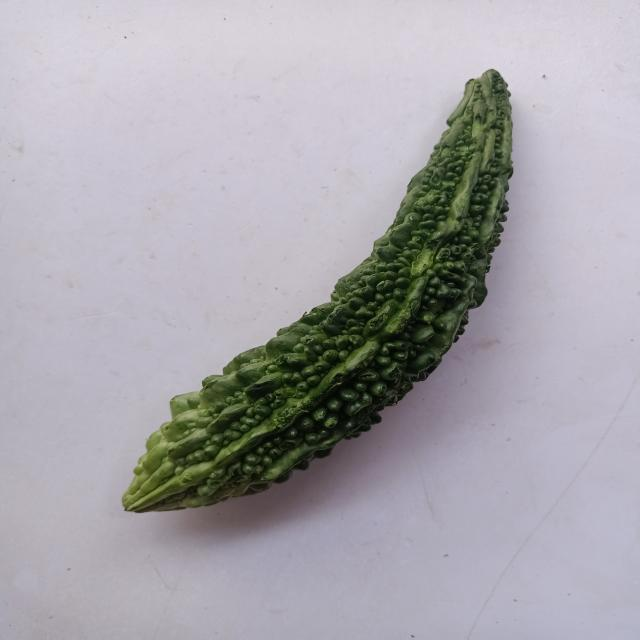Bitter Gourd: (89, 50, 559, 559)
